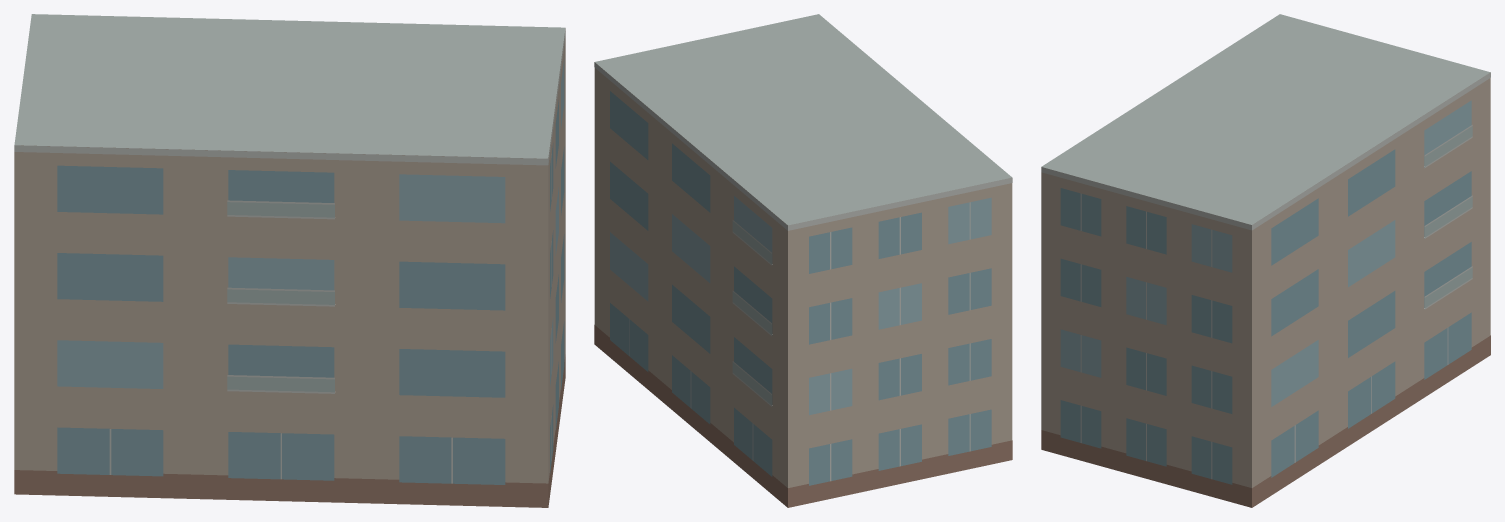
The model's file is survey-upis-33015935.glb.
3 views of the same model, side by side, from view 1: azimuth 30°, elevation 25°; view 2: azimuth 150°, elevation 25°; view 3: azimuth 270°, elevation 25° (orthographic). The views are drawn at different scales.
Visible parts, largest first — view 1: survey-upis-33015935.tmp; view 2: survey-upis-33015935.tmp; view 3: survey-upis-33015935.tmp.
Part boxes in pixels (<box>): survey-upis-33015935.tmp: <box>14,14,565,507</box>; survey-upis-33015935.tmp: <box>594,14,1012,507</box>; survey-upis-33015935.tmp: <box>1041,14,1490,507</box>.
Bounding box in the file's own units: 20.34 × 12.7 × 18.3.
